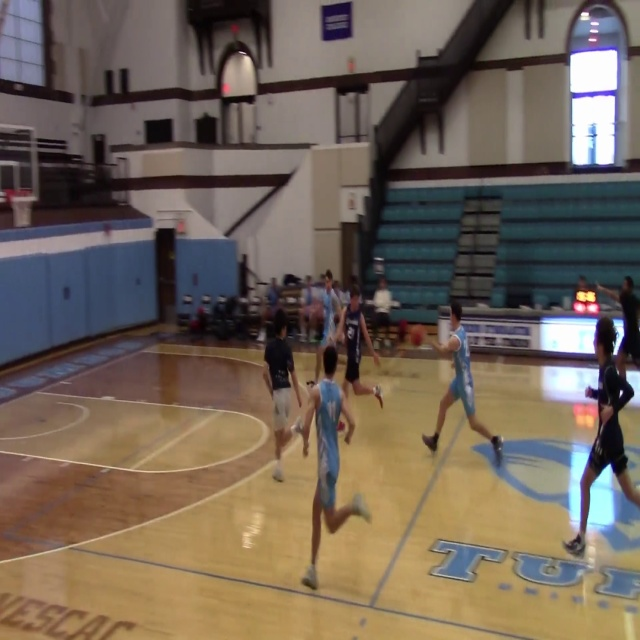Basketball: (410, 325, 426, 346), (337, 421, 345, 430)
